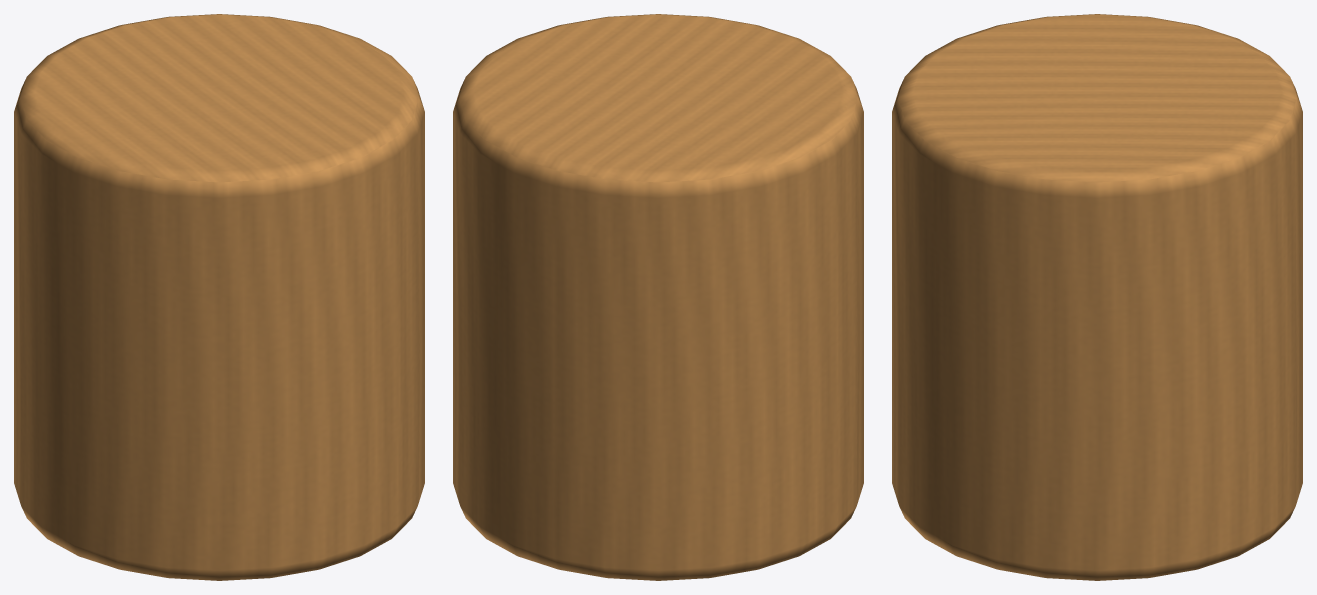
File: wall_round_pillar.glb
The picture shows the model from 3 angles, left to right: view 1: azimuth 30°, elevation 25°; view 2: azimuth 150°, elevation 25°; view 3: azimuth 270°, elevation 25°; orthographic projection.
Parts seen in each view (by area): view 1: Round beech pillar; view 2: Round beech pillar; view 3: Round beech pillar.
Part boxes in pixels (box(x1,y1,x2,y2)): Round beech pillar: box(14, 14, 424, 580); Round beech pillar: box(453, 14, 863, 580); Round beech pillar: box(892, 14, 1302, 580).
Size of the model in its own units: 1 by 1.1 by 1.
1 material, 1 textured.
